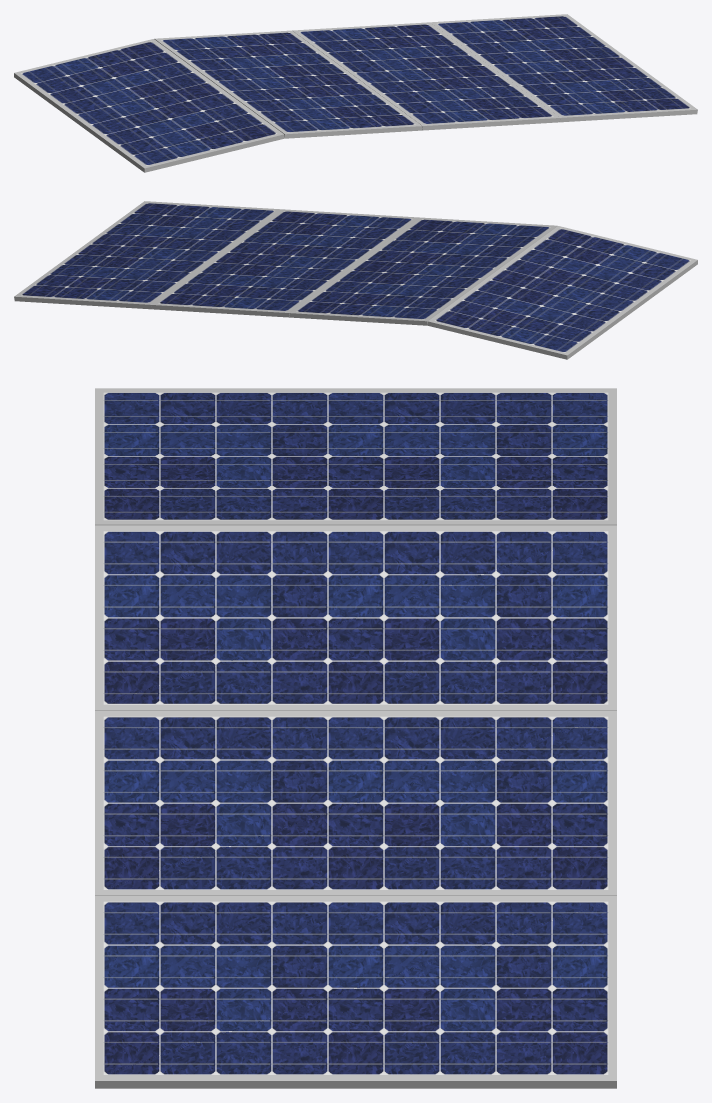
File: Landsat_Panel.obj
3 views of the same model, one above another, from view 1: azimuth 30°, elevation 25°; view 2: azimuth 150°, elevation 25°; view 3: azimuth 270°, elevation 25° (orthographic). The views are drawn at different scales.
Bounding box in the file's own units: 2.6 × 0.3618 × 1.06.
